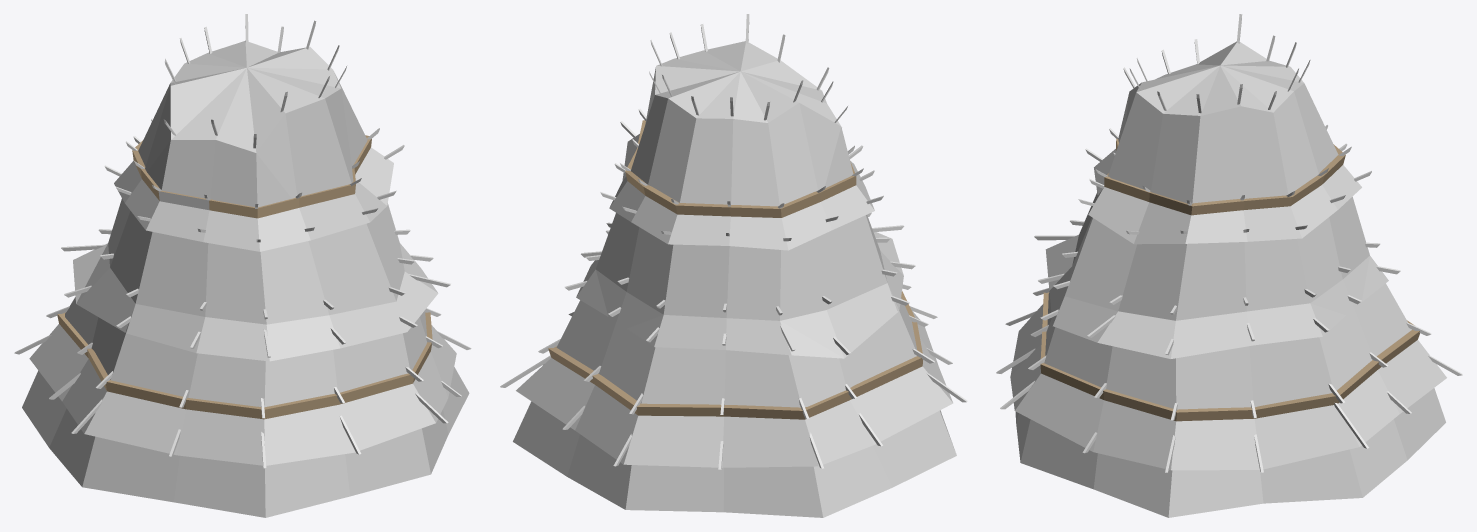
The model's file is Hay_1.fbx.
The picture shows the model from 3 angles, left to right: view 1: azimuth 30°, elevation 25°; view 2: azimuth 150°, elevation 25°; view 3: azimuth 270°, elevation 25°; orthographic projection.
Parts seen in each view (by area): view 1: Hay_1; view 2: Hay_1; view 3: Hay_1.
Part boxes in pixels (bbox=[...]): Hay_1: bbox=[14, 14, 471, 517]; Hay_1: bbox=[500, 14, 967, 517]; Hay_1: bbox=[996, 14, 1462, 517].
Size of the model in its own units: 1.64 by 1.47 by 1.66.
